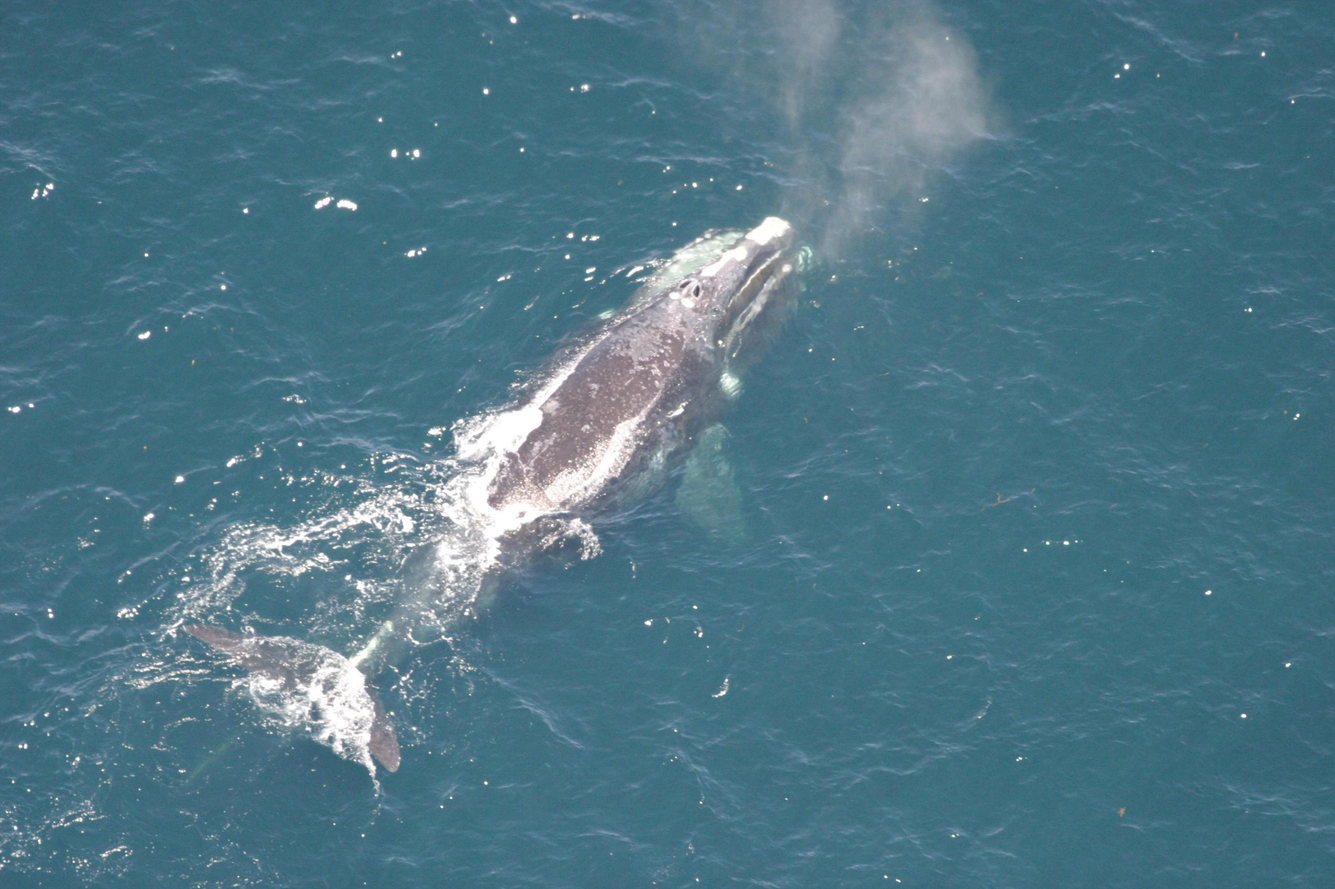whale: (172, 211, 820, 775)
